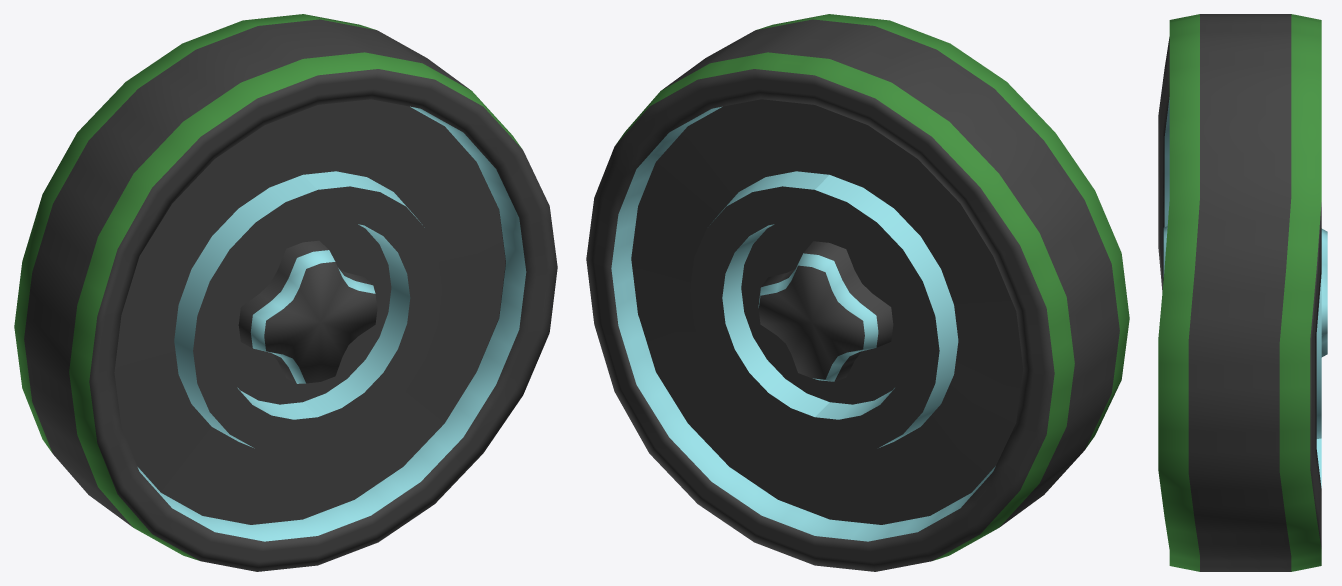
Rendered from circularDoor.FBX.
The picture shows the model from 3 angles, left to right: view 1: azimuth 30°, elevation 25°; view 2: azimuth 150°, elevation 25°; view 3: azimuth 270°, elevation 25°; orthographic projection.
Parts seen in each view (by area): view 1: Cylinder001, Object002, Object001, Object003; view 2: Cylinder001, Object001, Object002, Object003; view 3: Cylinder001, Object003, Object002.
Part boxes in pixels (x1,y1,x2,y2): Cylinder001: (14,14,557,571); Object002: (303,99,505,519); Object001: (114,110,317,524); Object003: (238,240,377,383); Cylinder001: (586,14,1129,571); Object001: (814,111,1023,524); Object002: (631,99,829,519); Object003: (758,241,893,381); Cylinder001: (1158,14,1321,571); Object003: (1163,226,1327,357); Object002: (1316,275,1321,438).
Size of the model in its own units: 21712 by 21712 by 6575.
